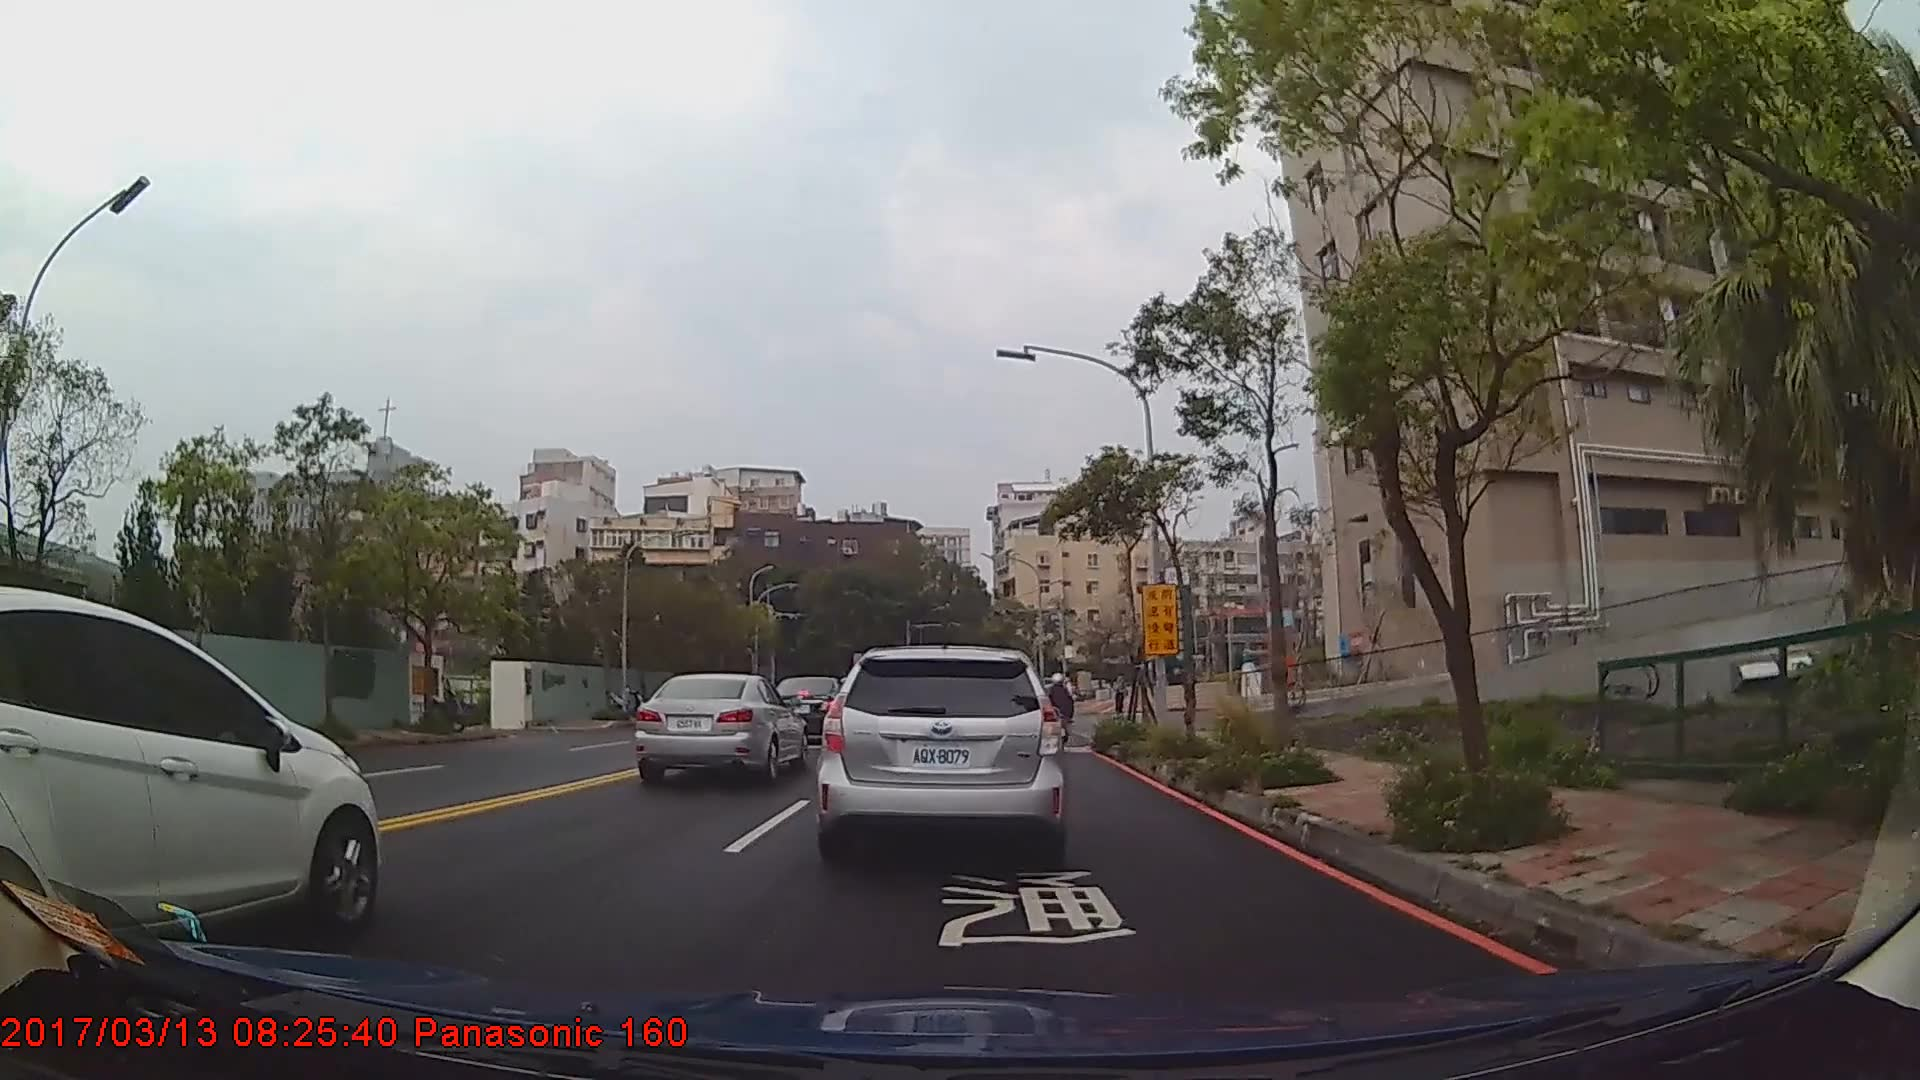rider: (1047, 676, 1077, 751)
vehicle: (0, 585, 381, 964), (819, 644, 1068, 860), (635, 673, 808, 787), (773, 674, 858, 742)
